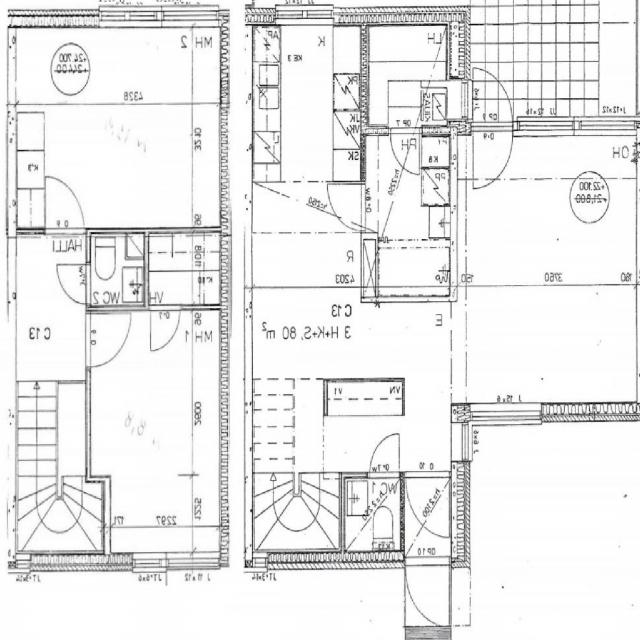door: (406, 552, 449, 627), (473, 120, 513, 189), (473, 67, 513, 136), (406, 472, 449, 534), (86, 314, 130, 366), (46, 175, 84, 233), (326, 184, 366, 231), (390, 125, 420, 175), (370, 432, 399, 478), (151, 304, 180, 350), (57, 264, 90, 303)
